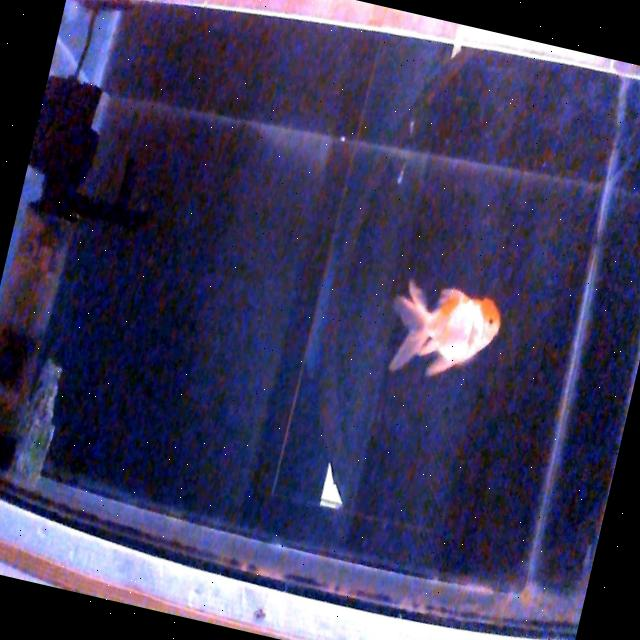fish: (379, 272, 505, 392)
